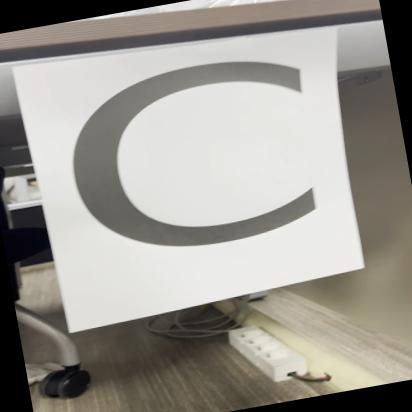seat: (24, 15, 381, 322)
